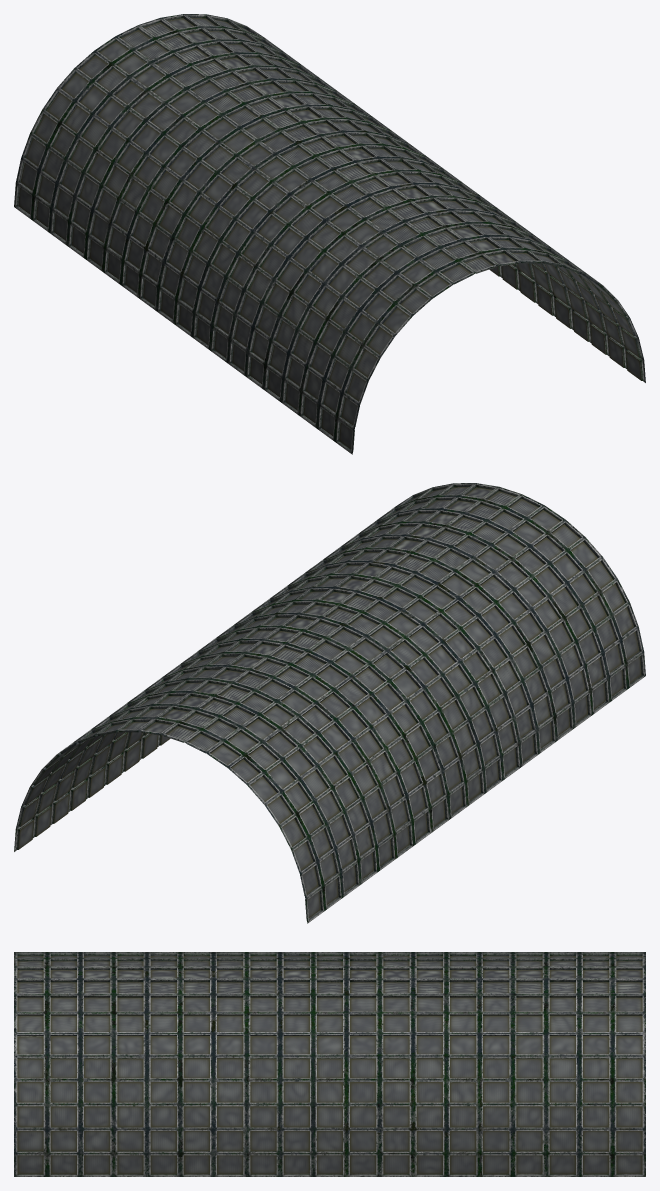
Rendered from glass_roof.glb.
3 views of the same model, one above another, from view 1: azimuth 30°, elevation 25°; view 2: azimuth 150°, elevation 25°; view 3: azimuth 270°, elevation 25° (orthographic). The views are drawn at different scales.
Parts seen in each view (by area): view 1: Cube_0; view 2: Cube_0; view 3: Cube_0.
Part boxes in pixels (x1,y1,x2,y2): Cube_0: (14,14,645,454); Cube_0: (14,483,645,923); Cube_0: (14,952,645,1176).
Size of the model in its own units: 2 by 1 by 4.
Materials: 1 (1 with a texture image).
